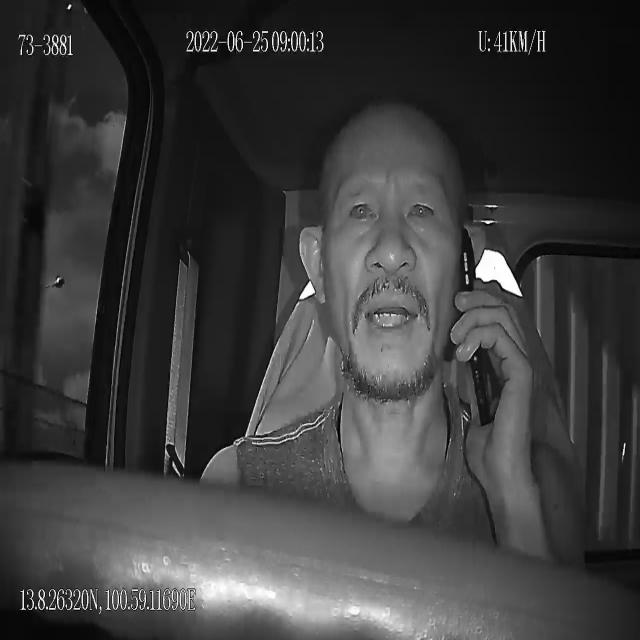phone: (461, 226, 492, 429)
